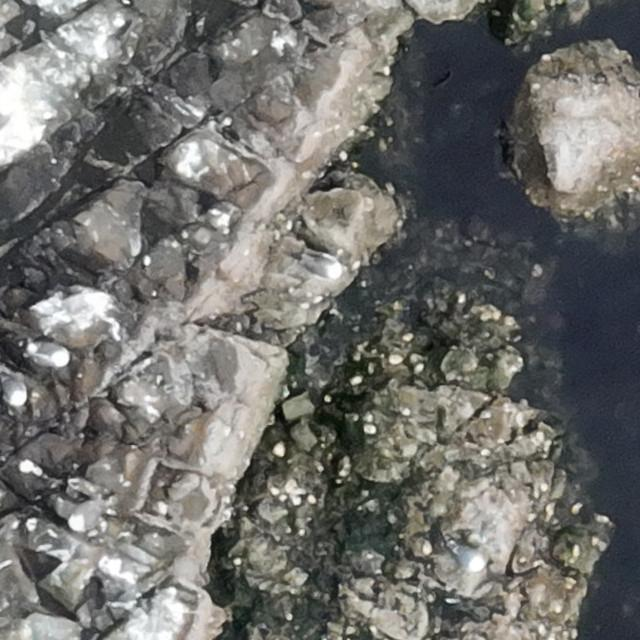umineko: (295, 250, 343, 279), (65, 497, 101, 530), (2, 370, 26, 406), (32, 343, 68, 365), (453, 546, 486, 569)
